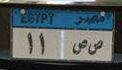1: (37, 31, 46, 56), (24, 32, 33, 54)
saad: (88, 38, 105, 56), (71, 38, 88, 55)
